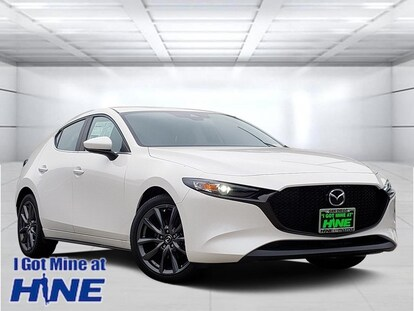Mazda3 Hatchback: (14, 105, 397, 285)
